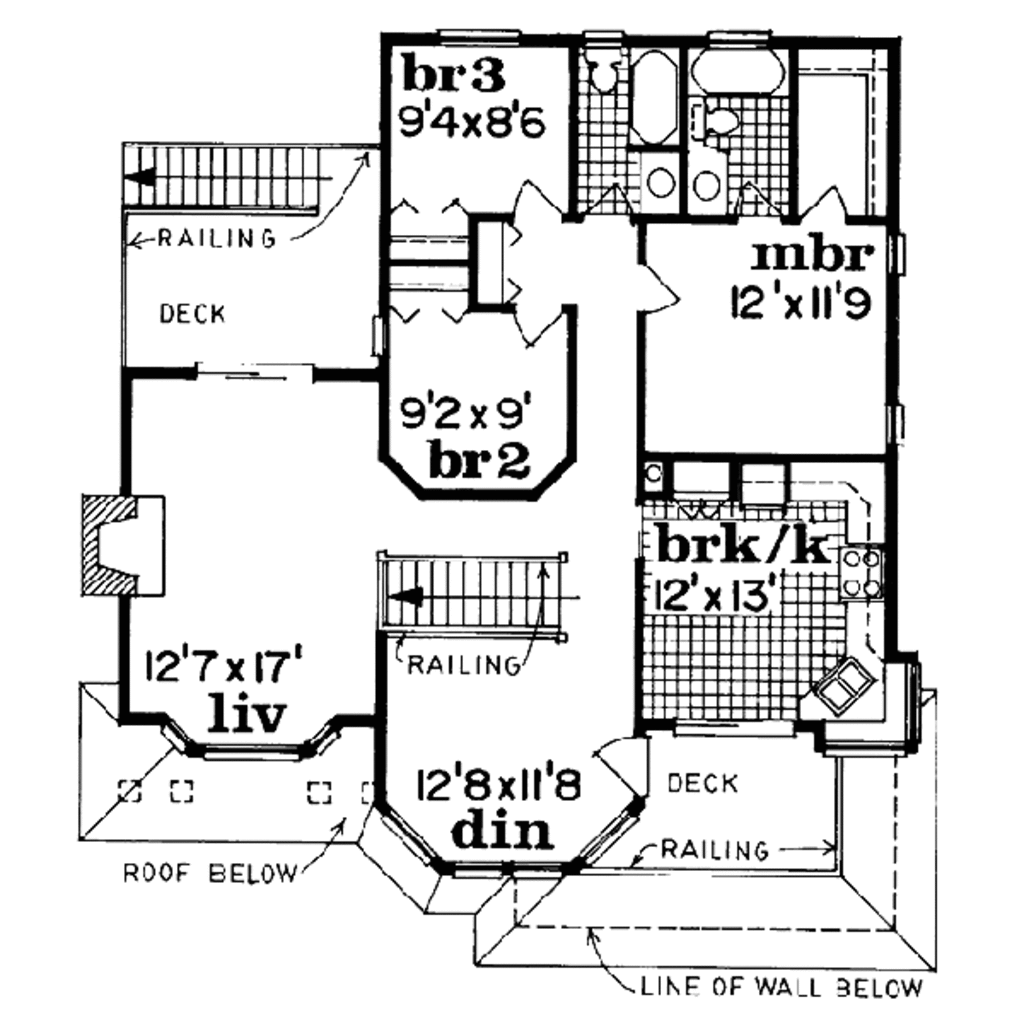door: (579, 731, 658, 801), (635, 263, 682, 316), (517, 301, 564, 354), (801, 184, 851, 226), (512, 177, 555, 218)
large_sink: (579, 21, 627, 104), (688, 95, 752, 144)
small_sink: (683, 144, 739, 221), (645, 147, 682, 218)
stairs: (376, 543, 582, 655), (114, 130, 326, 216)
tub: (630, 42, 684, 148), (691, 42, 787, 91)
twin_sink: (801, 642, 881, 727)
window: (372, 802, 444, 876), (573, 800, 636, 877), (438, 854, 568, 891), (193, 731, 308, 770), (437, 27, 516, 50), (305, 715, 341, 760)
